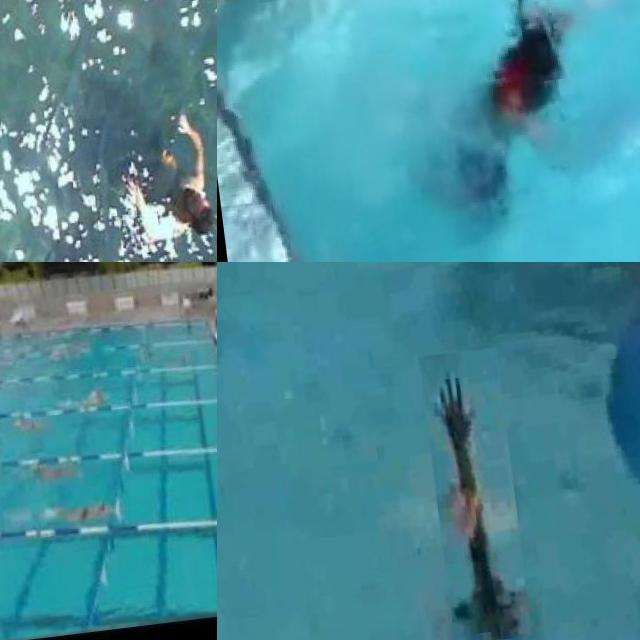drowning: (425, 0, 598, 237), (419, 347, 533, 640)
swimming: (108, 109, 217, 261), (50, 487, 106, 524), (76, 381, 121, 416), (36, 452, 70, 478), (0, 349, 16, 378), (14, 419, 33, 440)
